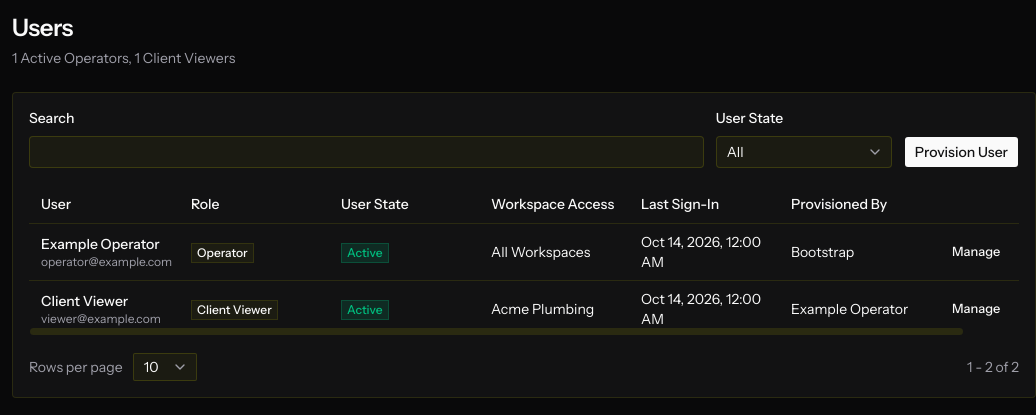
Test: application shell › lists users, filters by search text, and clears no-match filters
Check: the button with aria-label "Manage Example Operator" is shown, box [941,238,1011,266]
In the field named "Search users": [366, 152] box [29,136,704,168], type "nobody"
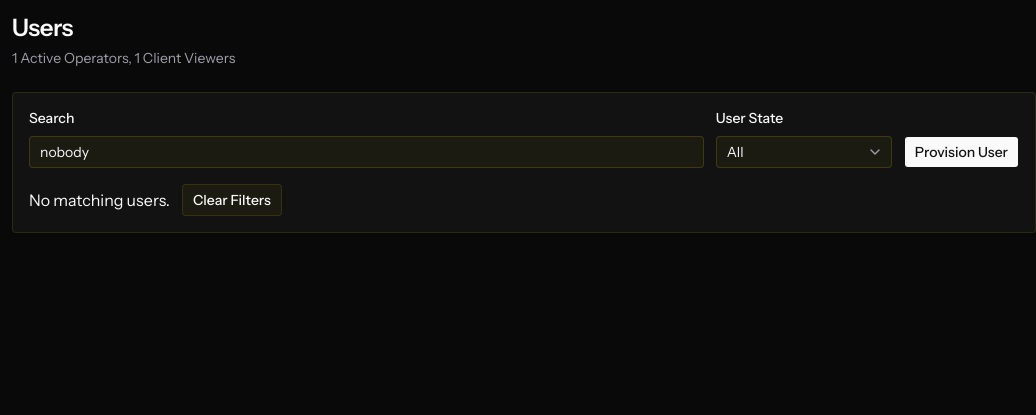
Check: the text "No matching users." is shown, box [29,188,170,212]
Click the button "Clear Filters": [232, 200] box [182,184,282,216]
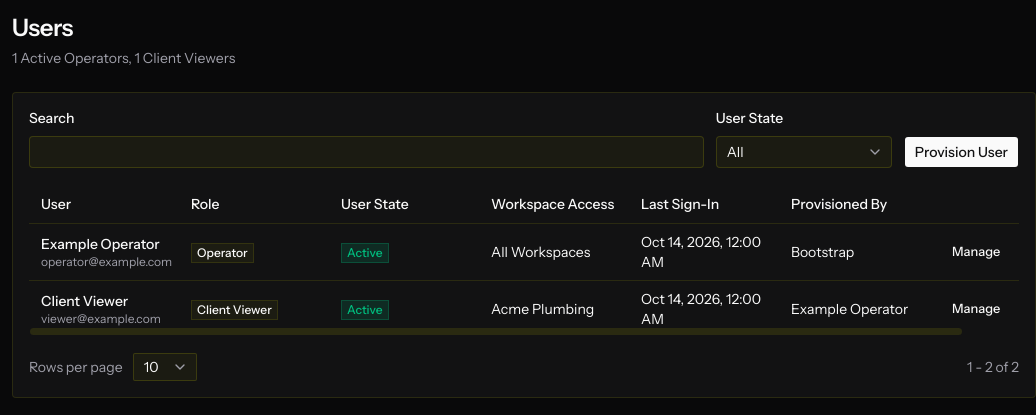
Check: the button with aria-label "Manage Example Operator" is shown, box [941,238,1011,266]
